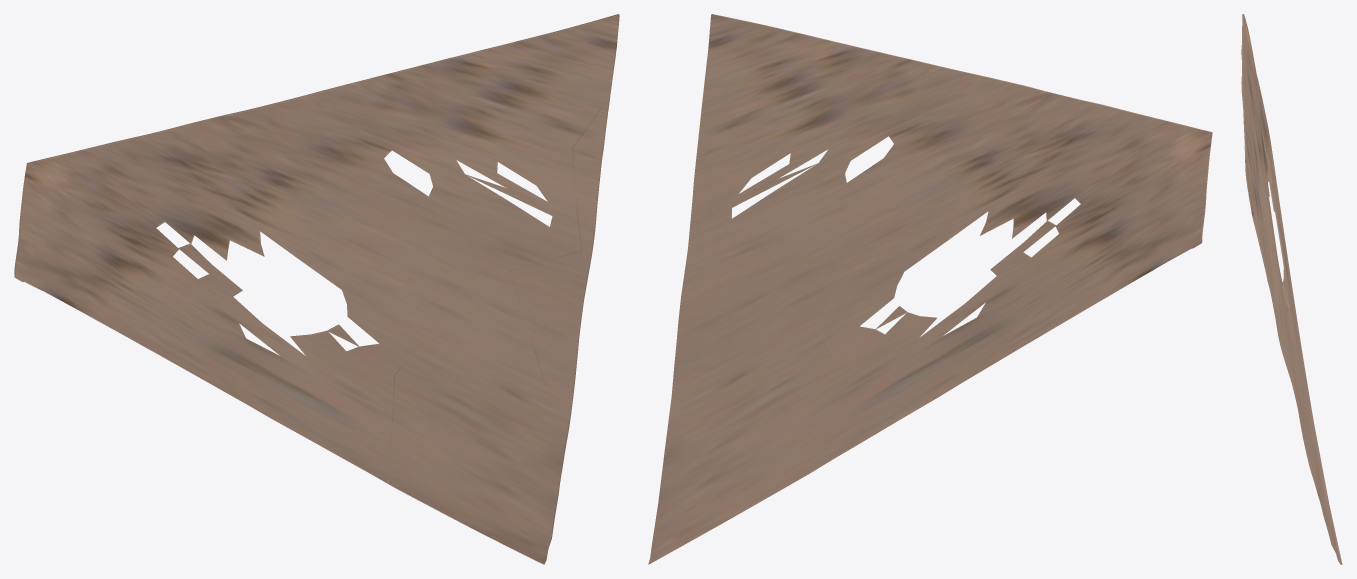
3 views of the same model, side by side, from view 1: azimuth 30°, elevation 25°; view 2: azimuth 150°, elevation 25°; view 3: azimuth 270°, elevation 25° (orthographic). The views are drawn at different scales.
Size of the model in its own units: 26.9 by 26.09 by 6.43.
1 material, 1 textured.
